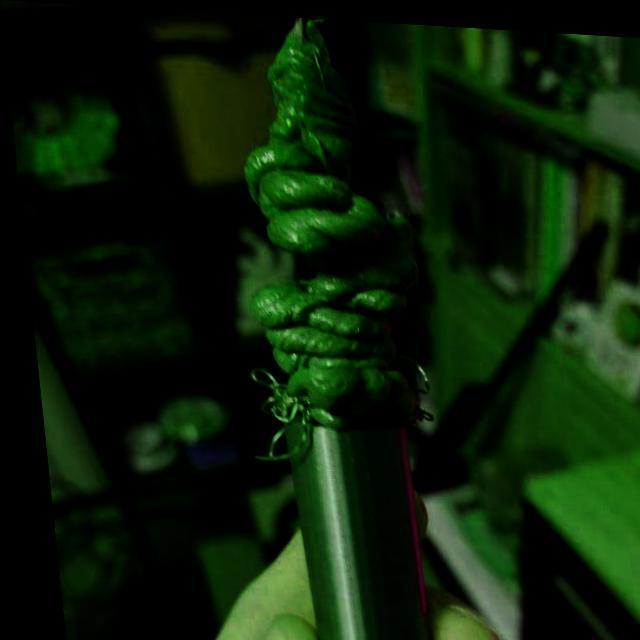spaghetti: (201, 9, 442, 478)
